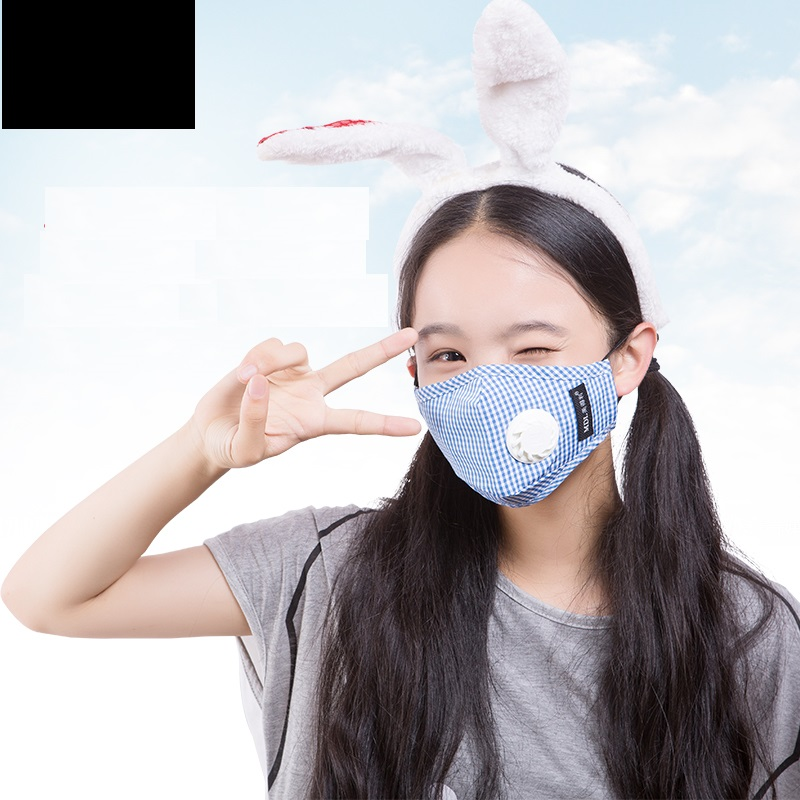face_mask: (412, 236, 611, 499)
